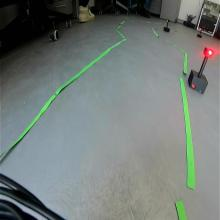red: (203, 45, 215, 59)
